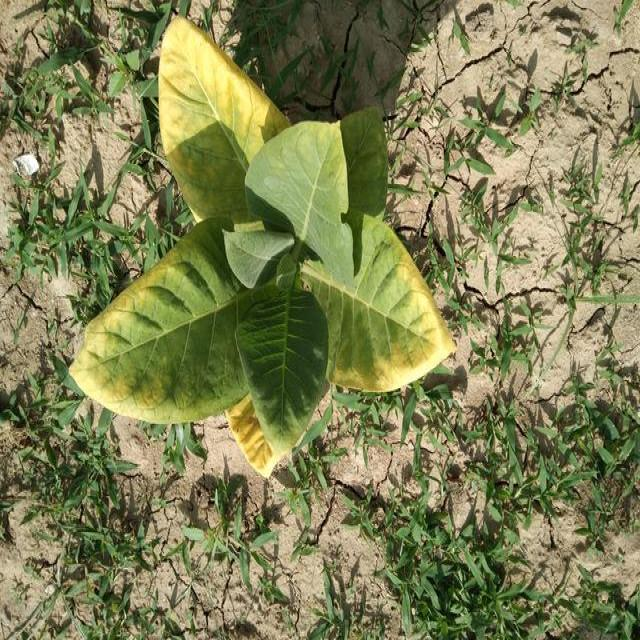crop: (61, 24, 441, 457)
